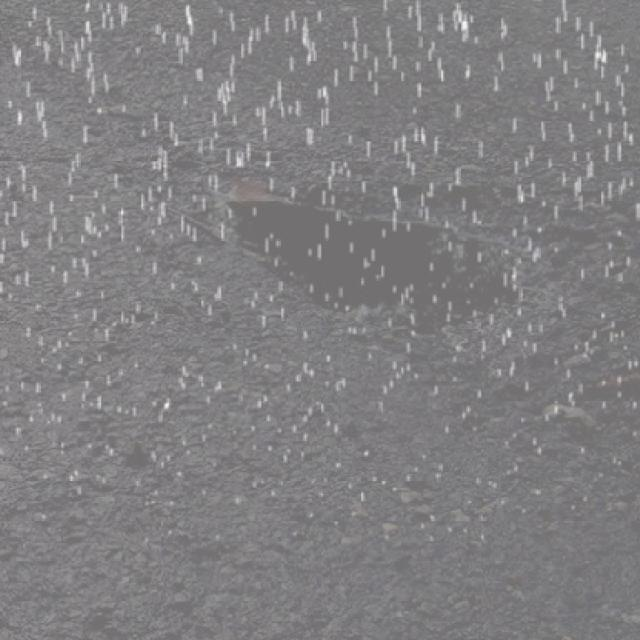Pothole: (160, 128, 605, 391)
